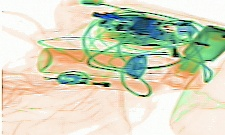lighter: (55, 69, 160, 93)
pressure: (35, 46, 145, 80)
